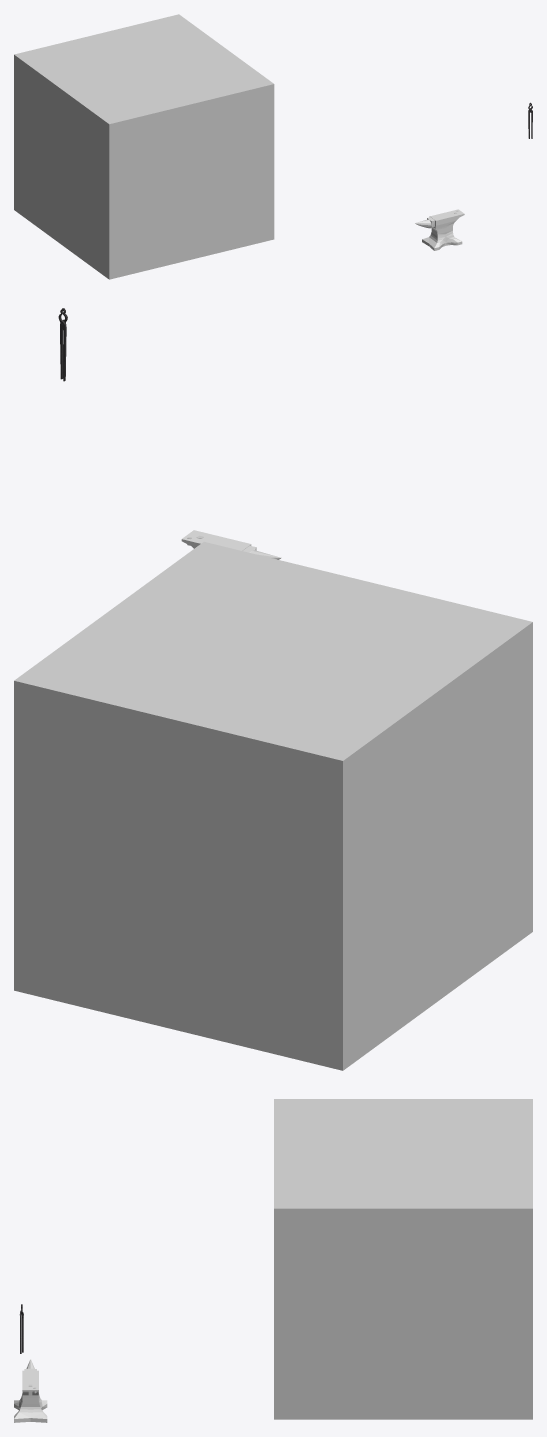
The model's file is pickuptong.dae.
3 renders of one model, top to bottom at view 1: azimuth 30°, elevation 25°; view 2: azimuth 150°, elevation 25°; view 3: azimuth 270°, elevation 25°, orthographic. The views are drawn at different scales.
Visible parts, largest first — view 1: Cube_004, Cube_002; view 2: Cube_004, Cube_002; view 3: Cube_004, Cube_002.
Part boxes in pixels (<box>): Cube_004: <box>14,14,274,279</box>; Cube_002: <box>415,209,464,250</box>; Cube_004: <box>14,541,532,1070</box>; Cube_002: <box>181,530,280,559</box>; Cube_004: <box>274,1099,532,1419</box>; Cube_002: <box>14,1359,47,1422</box>.
Bounding box in the file's own units: 4 × 4.01 × 1.9.
Materials: 1 (1 with a texture image).
